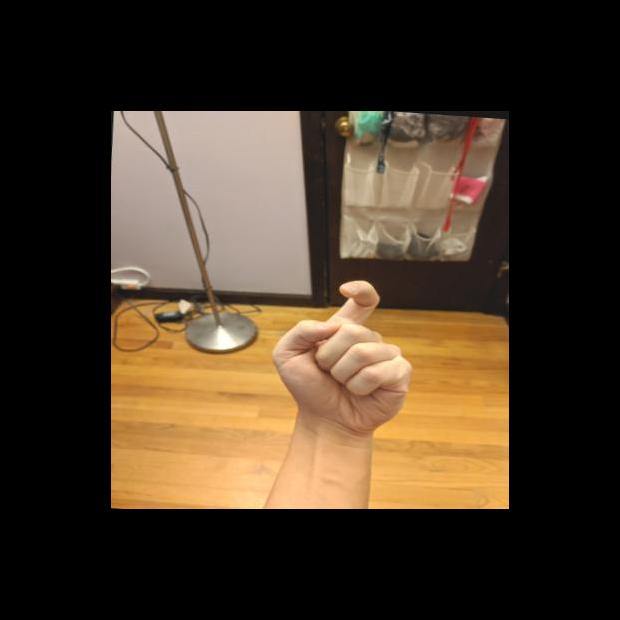W: (260, 271, 424, 440)
